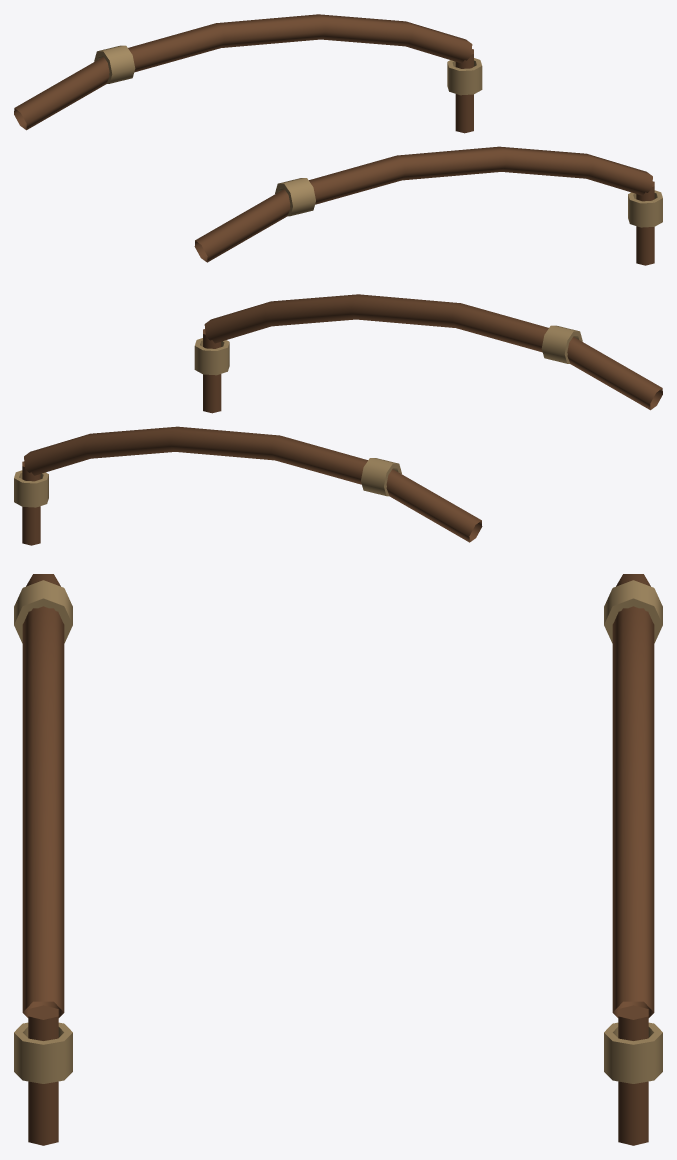
The model's file is k1_iako.obj.
3 views of the same model, one above another, from view 1: azimuth 30°, elevation 25°; view 2: azimuth 150°, elevation 25°; view 3: azimuth 270°, elevation 25° (orthographic). The views are drawn at different scales.
Visible parts, largest first — view 1: k1_iako; view 2: k1_iako; view 3: k1_iako.
Part boxes in pixels (x1=…): k1_iako: x1=14, y1=14, x2=662, y2=265; k1_iako: x1=14, y1=294, x2=662, y2=545; k1_iako: x1=14, y1=574, x2=662, y2=1145.
Size of the model in its own units: 1.01 by 0.3441 by 0.748.
